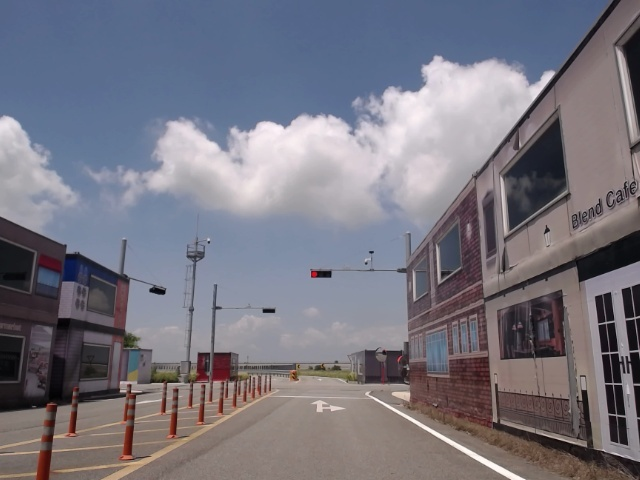red_3: (310, 271, 331, 279)
